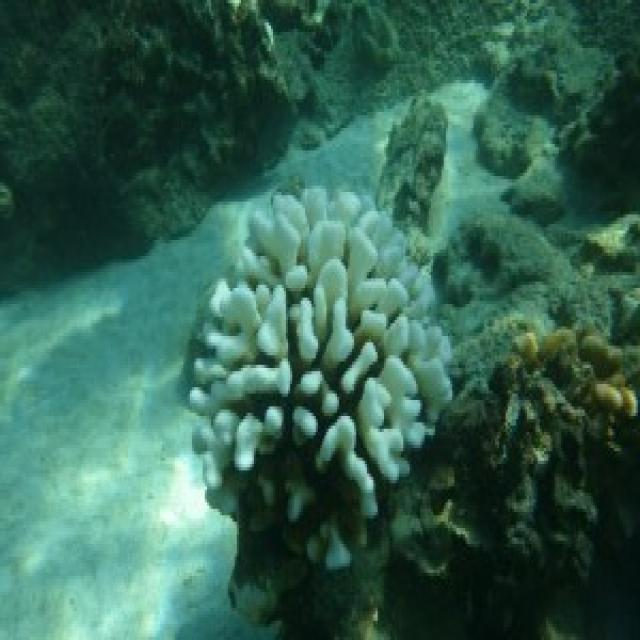Bleached: (179, 176, 453, 522)
Healthy: (466, 308, 640, 577), (81, 1, 332, 171)
